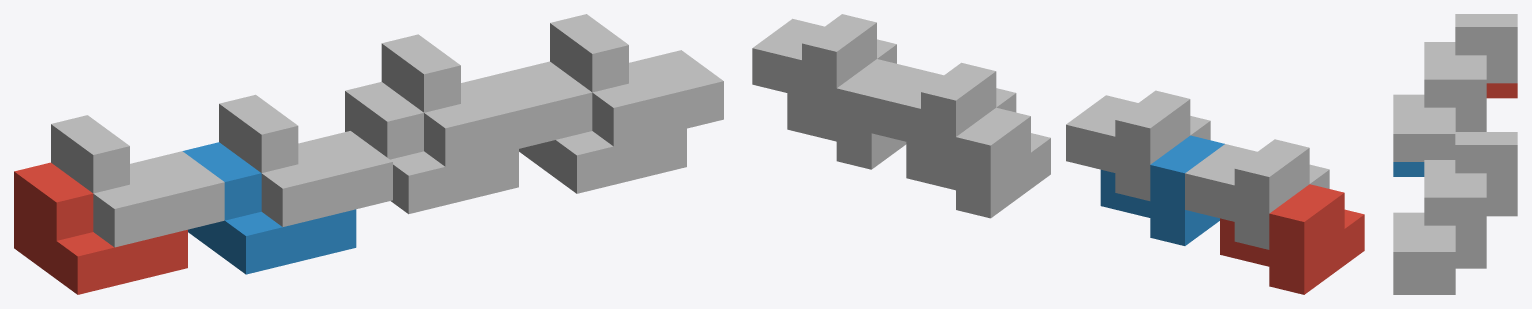
Rendered from tiling.obj.
The picture shows the model from 3 angles, left to right: view 1: azimuth 30°, elevation 25°; view 2: azimuth 150°, elevation 25°; view 3: azimuth 270°, elevation 25°; orthographic projection. The views are drawn at different scales.
Parts seen in each view (by area): view 1: copy_1_domain_7, copy_1_domain_4, copy_1_domain_3, copy_1_domain_8, copy_1_domain_1, copy_1_domain_5, copy_1_domain_2, copy_1_domain_6; view 2: copy_1_domain_7, copy_1_domain_4, copy_1_domain_3, copy_1_domain_8, copy_1_domain_1, copy_1_domain_5, copy_1_domain_6, copy_1_domain_2; view 3: copy_1_domain_8, copy_1_domain_4, copy_1_domain_3, copy_1_domain_7, copy_1_domain_6, copy_1_domain_1, copy_1_domain_5, copy_1_domain_2.
Part boxes in pixels (left/top/right/bottom): copy_1_domain_7: left=381, top=34, right=555, bottom=166; copy_1_domain_4: left=219, top=94, right=392, bottom=226; copy_1_domain_3: left=51, top=115, right=224, bottom=247; copy_1_domain_8: left=550, top=14, right=723, bottom=146; copy_1_domain_1: left=14, top=162, right=187, bottom=294; copy_1_domain_5: left=345, top=82, right=518, bottom=214; copy_1_domain_2: left=182, top=142, right=356, bottom=274; copy_1_domain_6: left=513, top=61, right=686, bottom=193; copy_1_domain_7: left=871, top=62, right=1016, bottom=173; copy_1_domain_4: left=1066, top=90, right=1210, bottom=200; copy_1_domain_3: left=1185, top=139, right=1329, bottom=249; copy_1_domain_8: left=752, top=14, right=896, bottom=124; copy_1_domain_1: left=1220, top=184, right=1364, bottom=294; copy_1_domain_5: left=906, top=107, right=1050, bottom=218; copy_1_domain_6: left=787, top=59, right=911, bottom=169; copy_1_domain_2: left=1100, top=135, right=1224, bottom=245; copy_1_domain_8: left=1393, top=184, right=1486, bottom=279; copy_1_domain_4: left=1393, top=66, right=1486, bottom=161; copy_1_domain_3: left=1424, top=14, right=1517, bottom=83; copy_1_domain_7: left=1424, top=132, right=1517, bottom=201; copy_1_domain_6: left=1393, top=253, right=1486, bottom=294; copy_1_domain_1: left=1486, top=83, right=1517, bottom=98; copy_1_domain_5: left=1486, top=201, right=1517, bottom=216; copy_1_domain_2: left=1393, top=162, right=1424, bottom=176.
Size of the model in its own units: 17 by 3 by 4.
